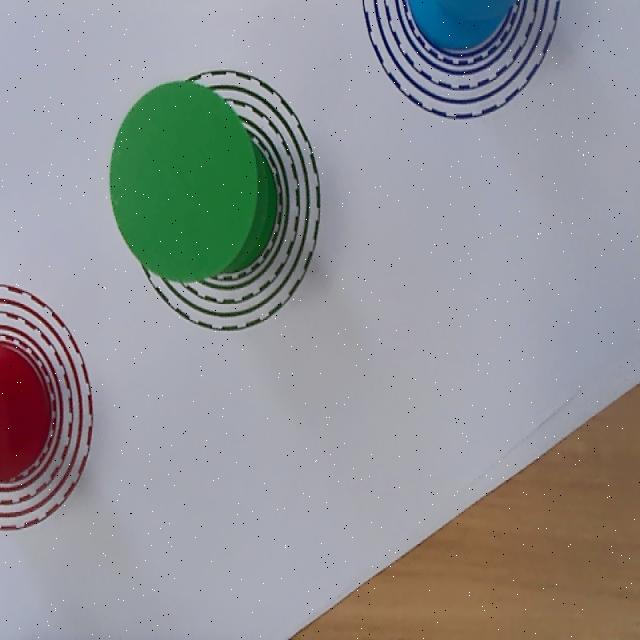g: (112, 81, 256, 282)
